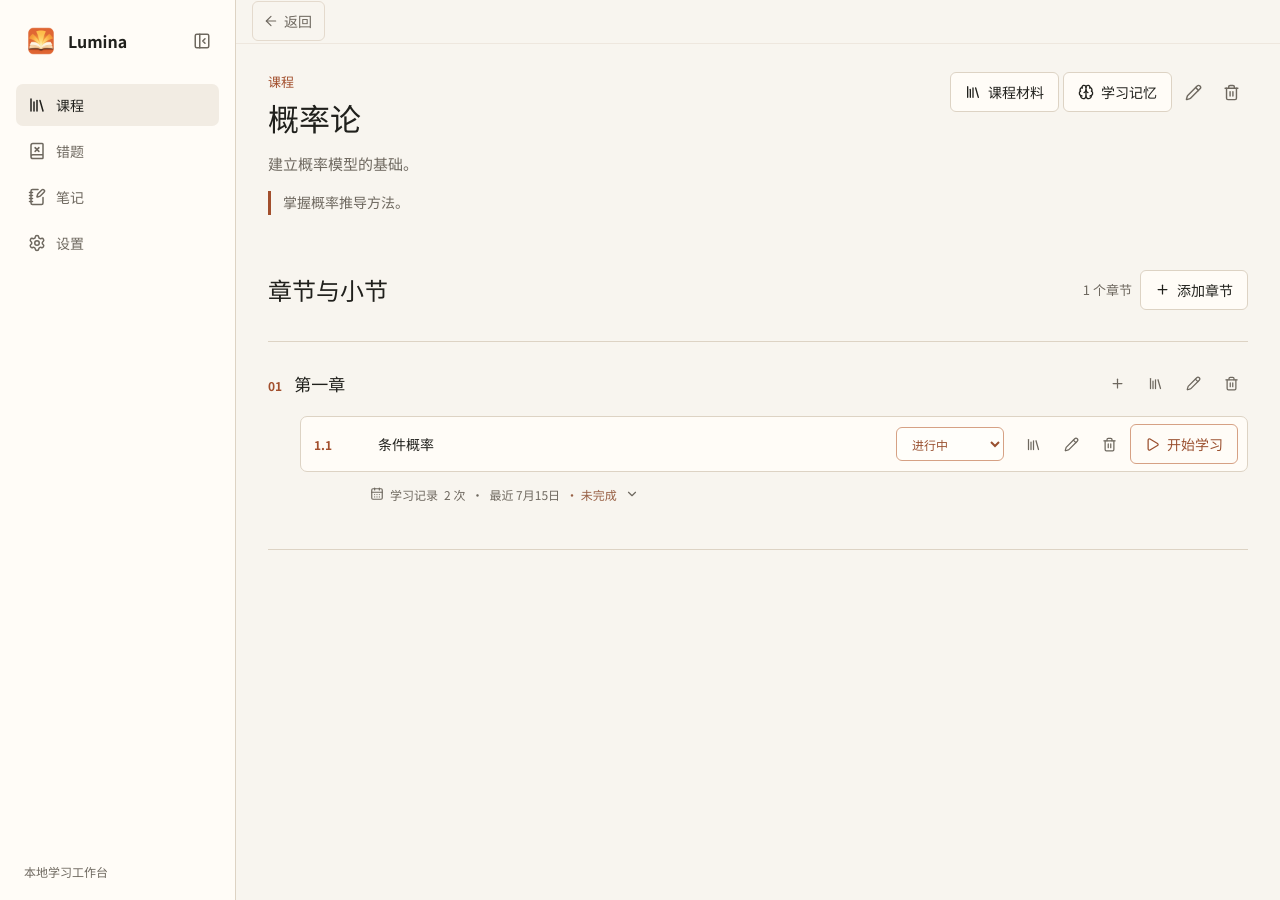
Test case: App › renames a chapter in an in-app dialog
Click the button named "修改章节 第一章" at (1193, 383), box [1176,366,1210,400]
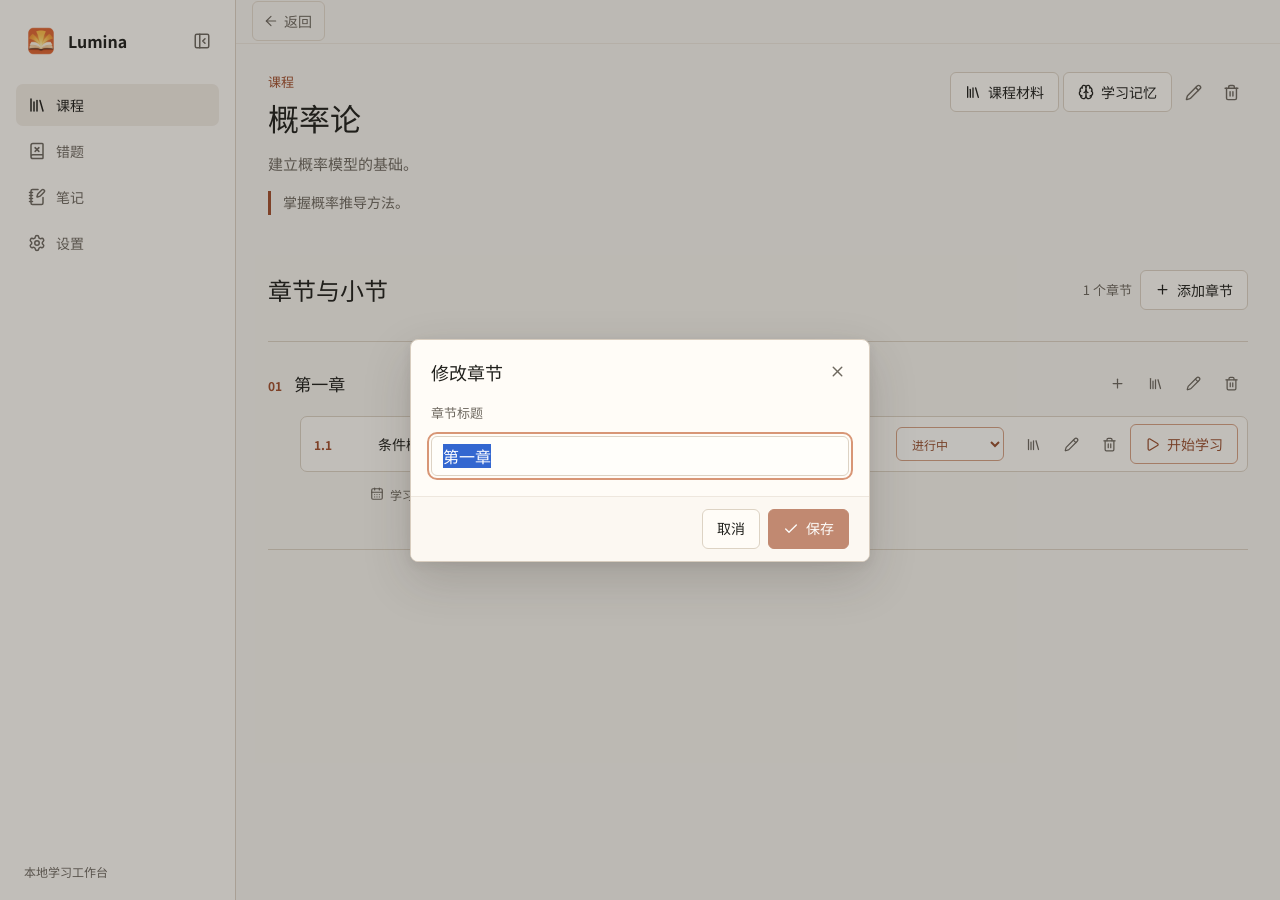
Expected: the field labelled "章节标题" holds "第一章"
Clear the field labelled "章节标题" at (640, 456), box [431,436,849,476]
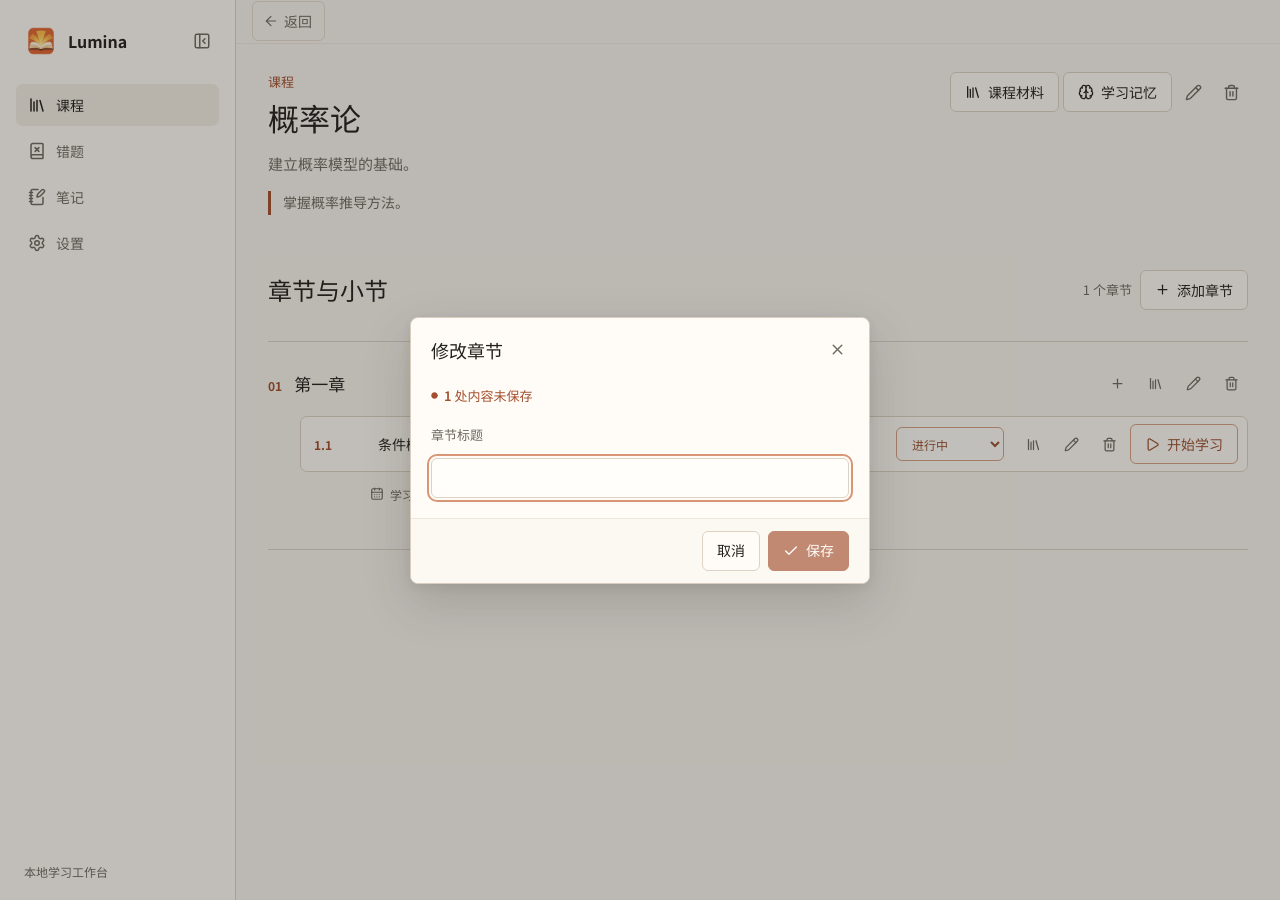
Type "随机事件" into the field labelled "章节标题" at (640, 478), box [431,458,849,498]
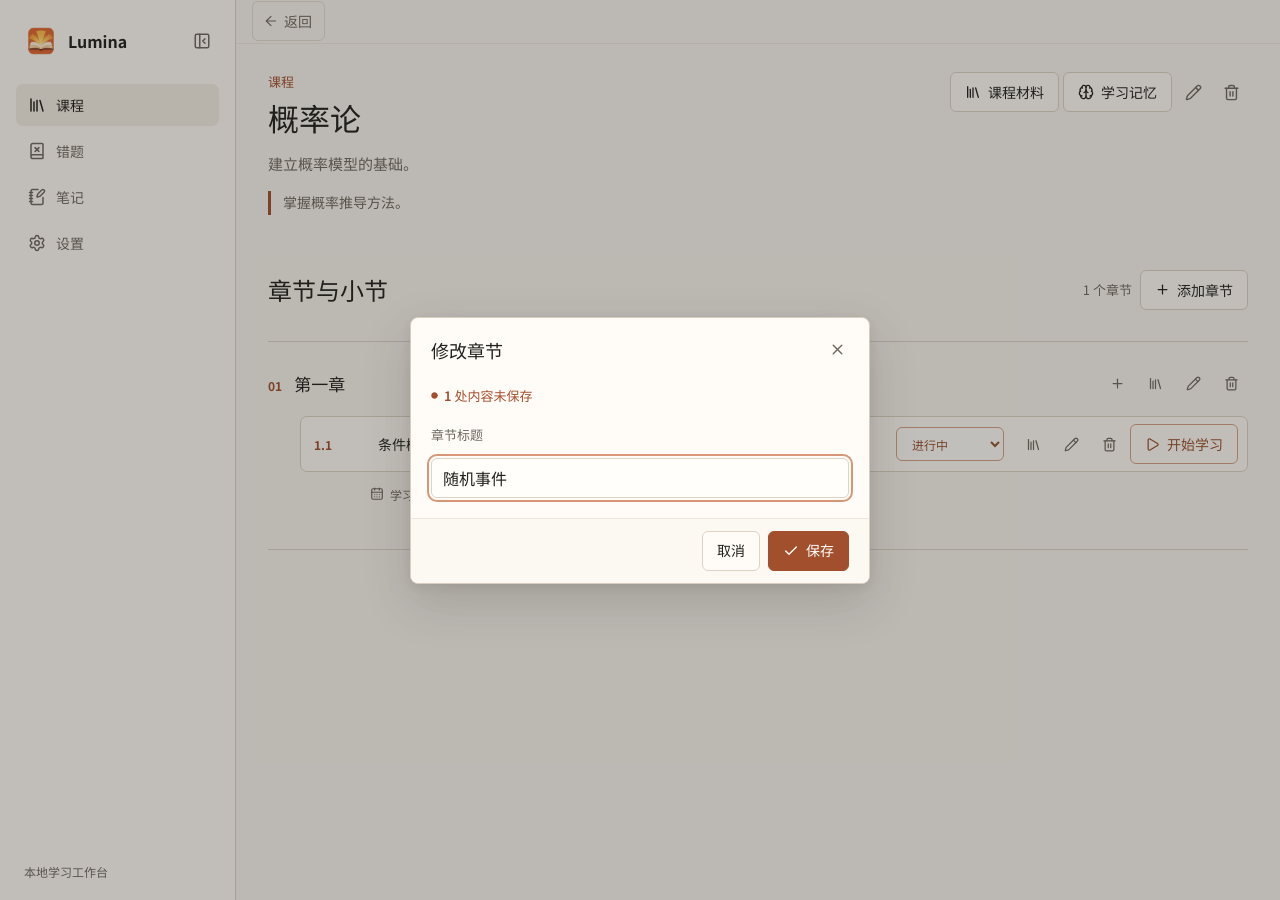
Press the mouse on the dialog "修改章节" at (640, 450), box [410,316,870,584]
Expected: the dialog "修改章节" is shown, [410,316,870,584]
Click the button "保存" at (808, 550), box [768,530,849,570]
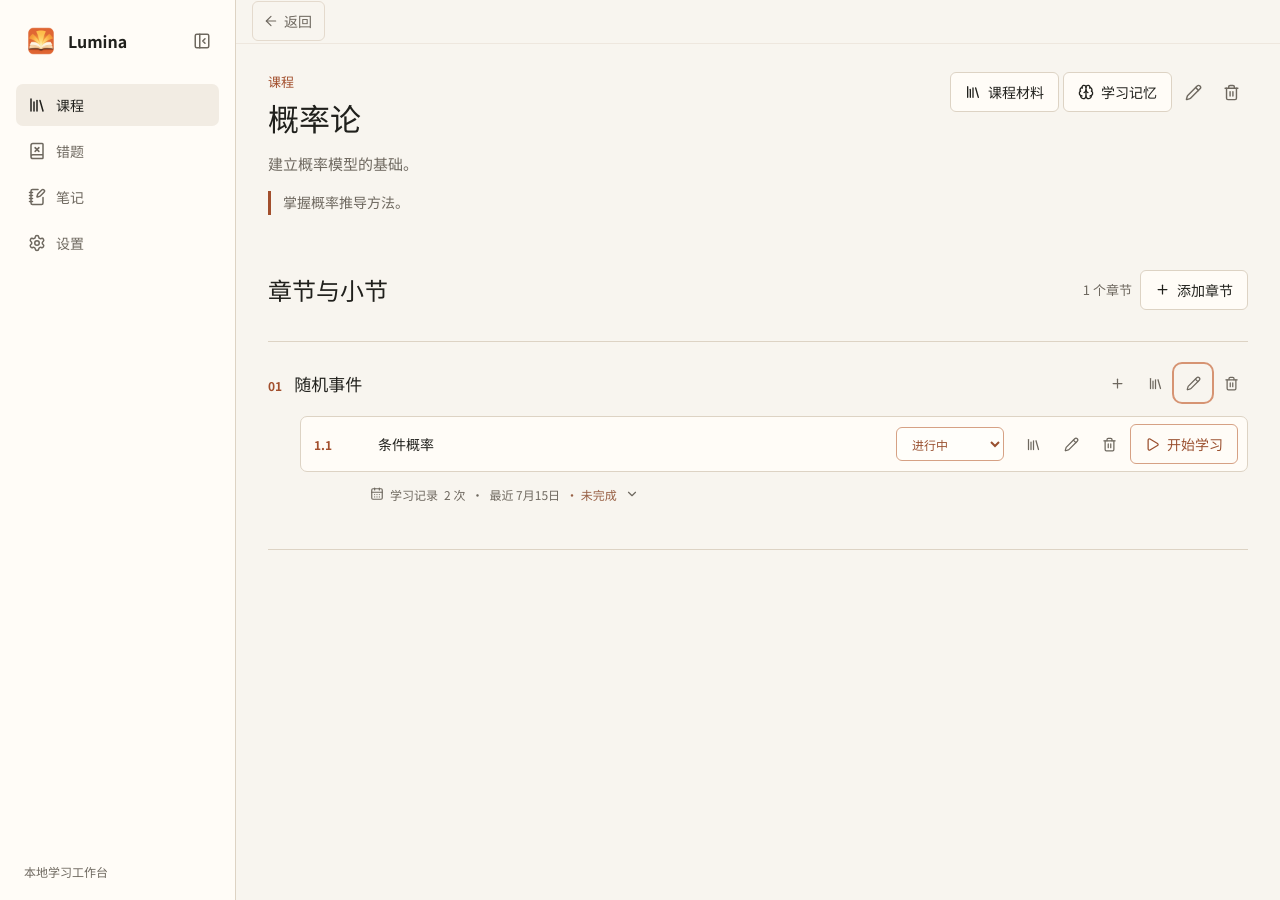
Expected: the heading "随机事件" is shown, [294,371,362,396]
